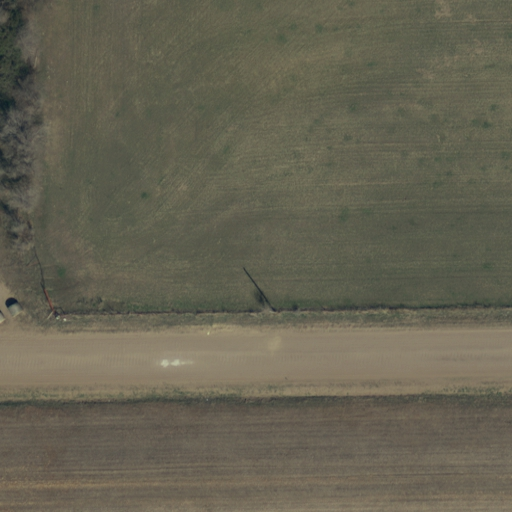DT: (267, 300, 283, 324)
